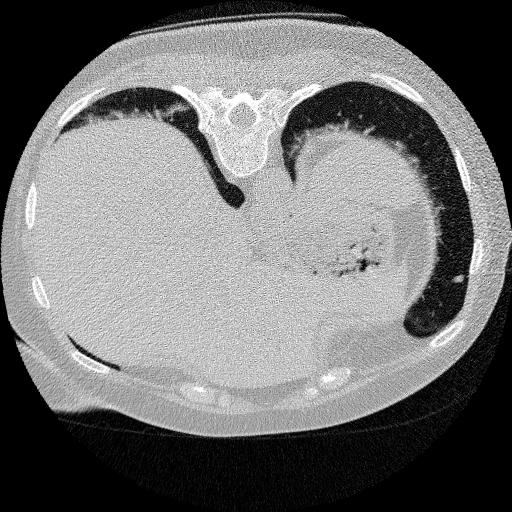nodule: (451, 273, 466, 288)
